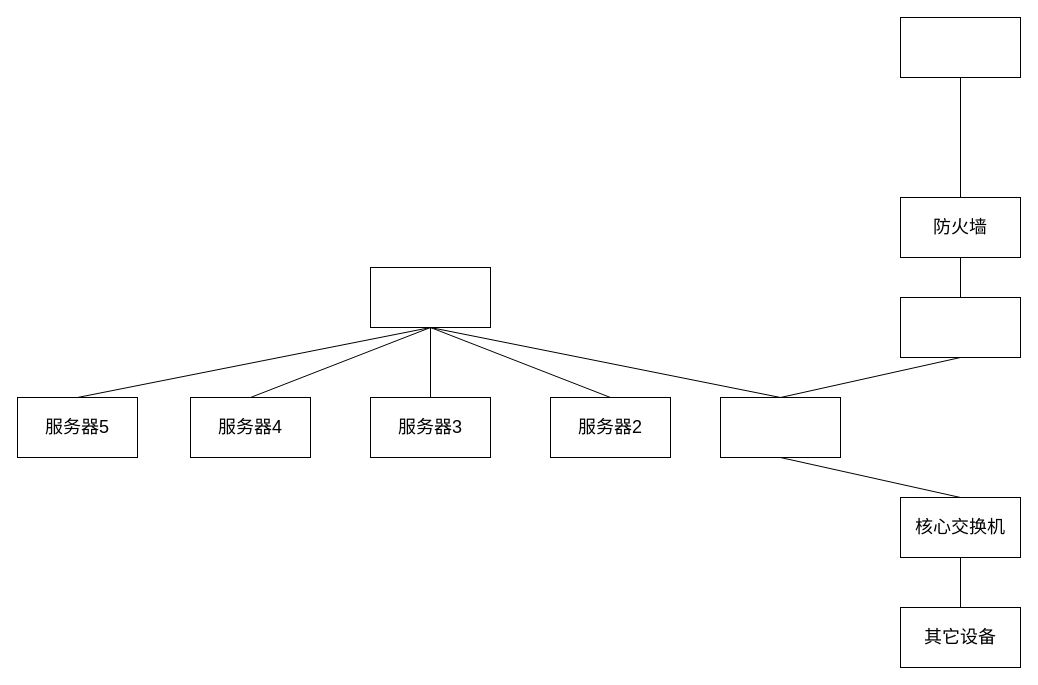
This 1038x685 diagram has some shape labels left out. Each missing label, with the centre of its shape:
"WWW" belongs at (x=960, y=47).
"交换机" belongs at (x=430, y=297).
"服务器1 (双网卡)" belongs at (x=780, y=427).
"路由器" belongs at (x=960, y=327).
